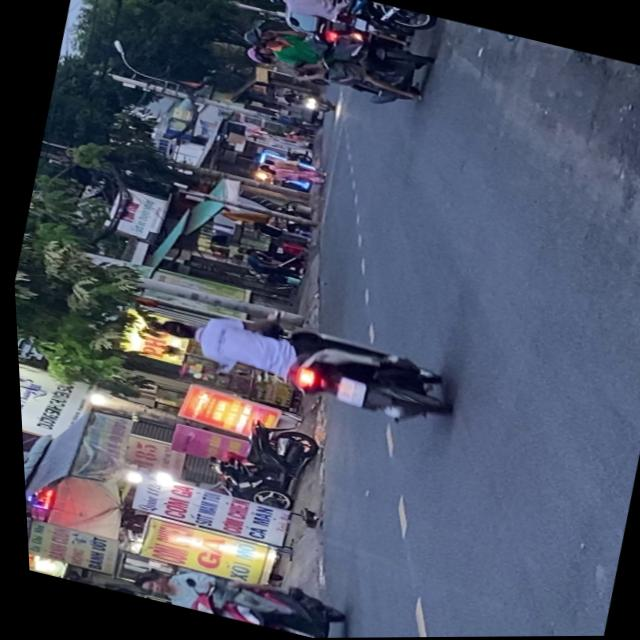helmet: (239, 23, 279, 51), (241, 42, 275, 66)
licenseplate: (145, 291, 457, 433), (232, 5, 437, 114), (122, 546, 353, 639)
motorcyclist: (154, 315, 197, 344), (127, 572, 166, 598)
nohelmet: (329, 375, 362, 408)
